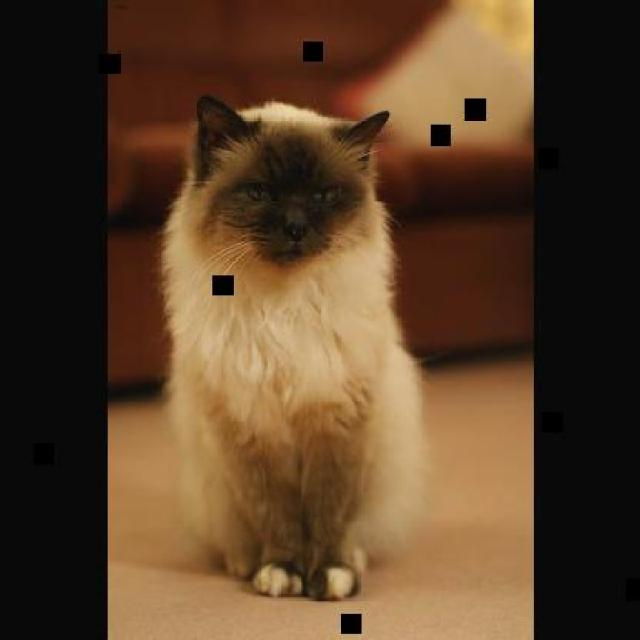unauthorized: (157, 92, 431, 600)
